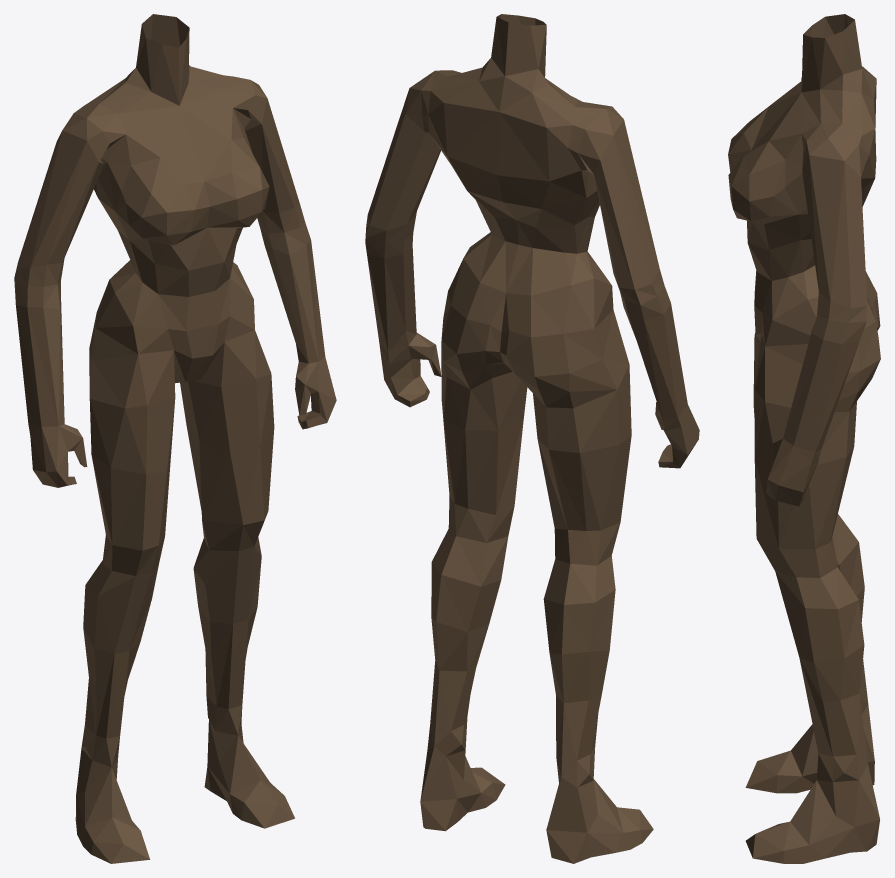
File: HUM_BODY_BABE0.OBJ
3 views of the same model, side by side, from view 1: azimuth 30°, elevation 25°; view 2: azimuth 150°, elevation 25°; view 3: azimuth 270°, elevation 25° (orthographic). The views are drawn at different scales.
Parts seen in each view (by area): view 1: HUM_BODY_BABE0; view 2: HUM_BODY_BABE0; view 3: HUM_BODY_BABE0.
Part boxes in pixels (x1,y1,x2,y2): HUM_BODY_BABE0: [14, 14, 336, 863]; HUM_BODY_BABE0: [365, 14, 699, 863]; HUM_BODY_BABE0: [728, 14, 880, 863].
Bounding box in the file's own units: 0.6425 × 1.67 × 0.2898.
